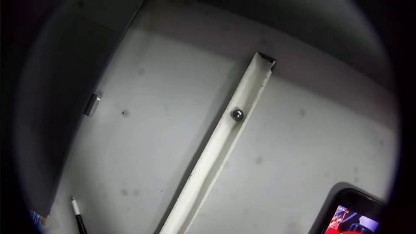gangzhu: (230, 107, 245, 120)
